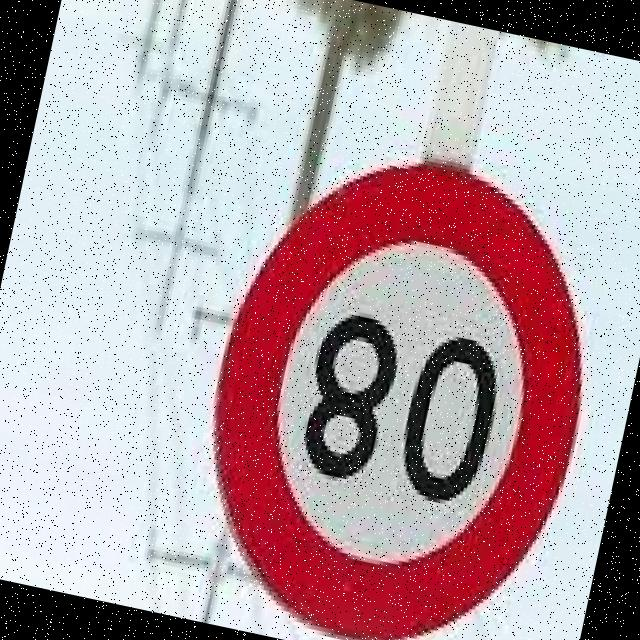speed_limit_80: (160, 119, 633, 640)
